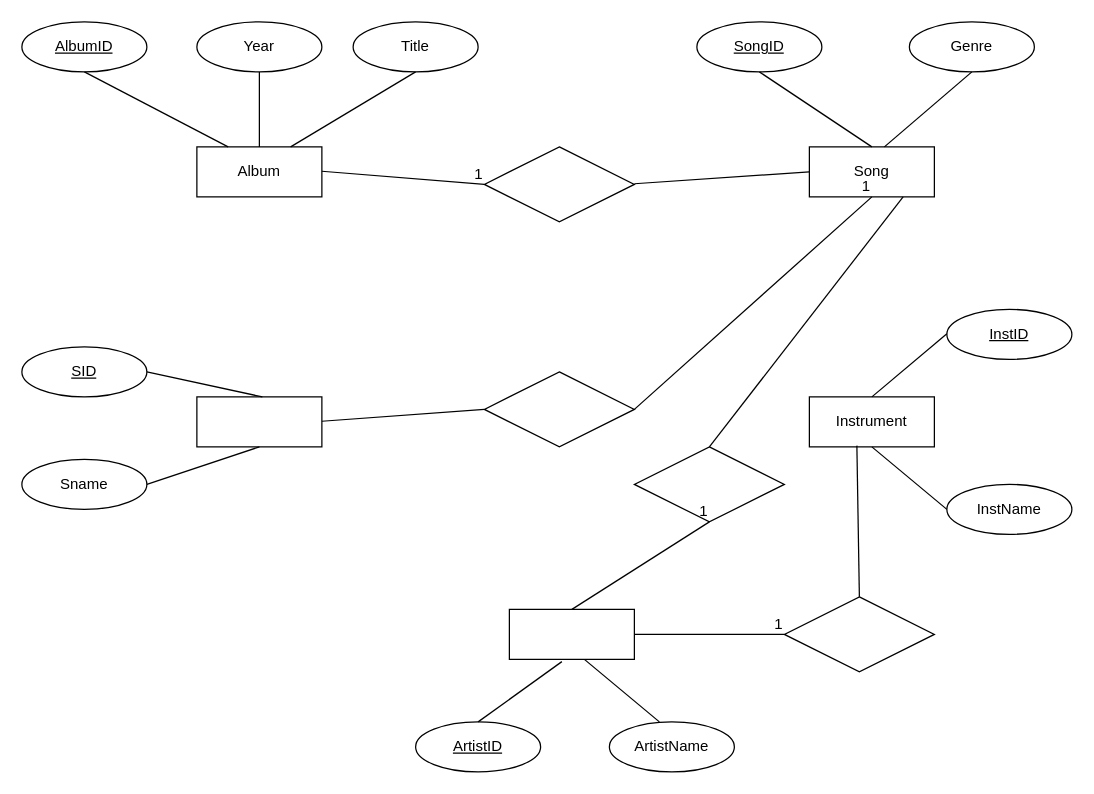
The diagram is 1094 pixels wide and 794 high, and some of its shapes have lost their labels. Each missing label, with the box of its shape:
Artist: (508, 608, 634, 659)
Composed: (633, 446, 784, 522)
Contains: (483, 146, 634, 222)
Plays: (783, 596, 934, 672)
Singer: (196, 396, 322, 447)
SungBy: (483, 371, 634, 447)
